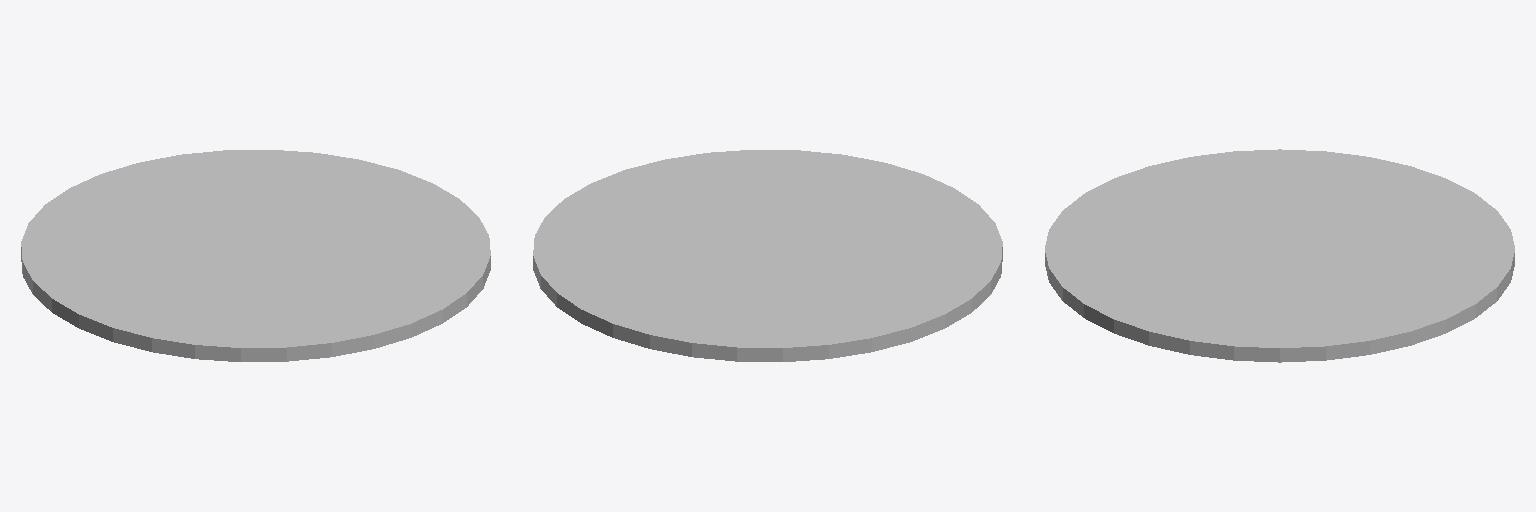
File: stage.obj
The picture shows the model from 3 angles: view 1: azimuth 30°, elevation 25°; view 2: azimuth 150°, elevation 25°; view 3: azimuth 270°, elevation 25°; orthographic projection.
Parts seen in each view (by area): view 1: 円柱; view 2: 円柱; view 3: 円柱.
Part boxes in pixels (x1,y1,x2,y2): 円柱: (21,150,490,361); 円柱: (533,150,1002,361); 円柱: (1045,149,1514,362).
Bounding box in the file's own units: 6 × 0.2 × 6.